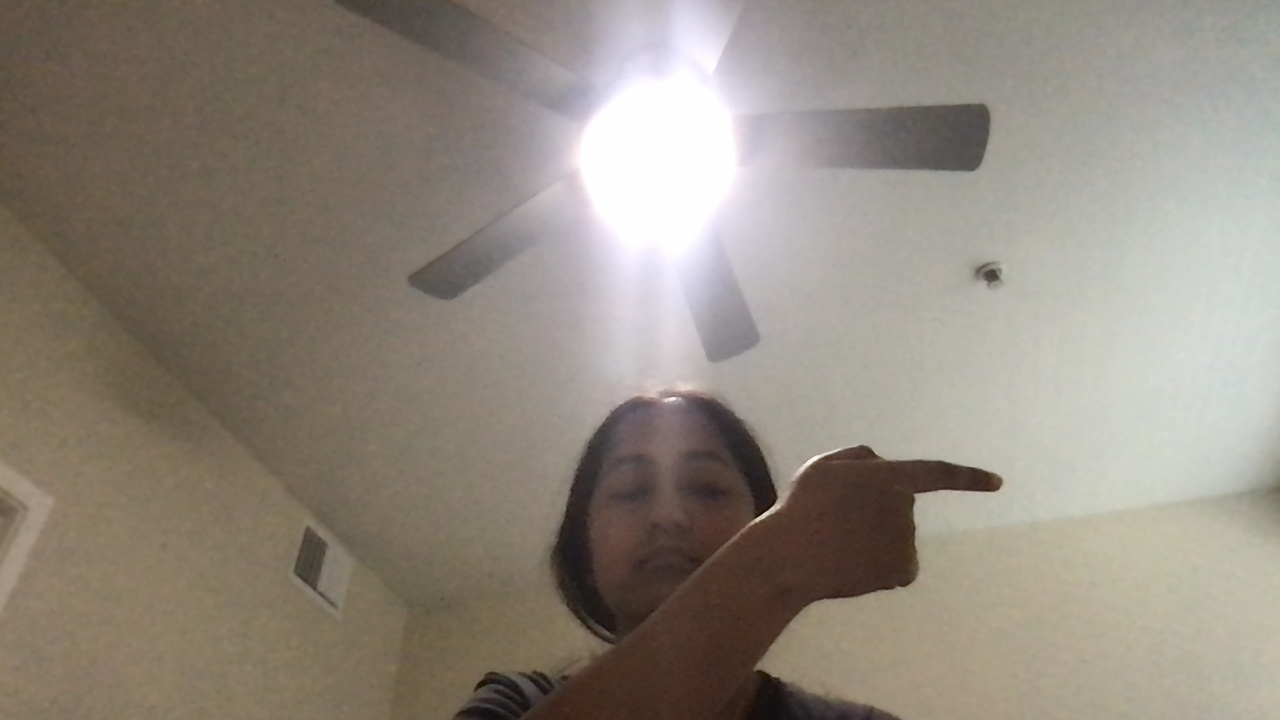g: (823, 443, 1016, 613)
